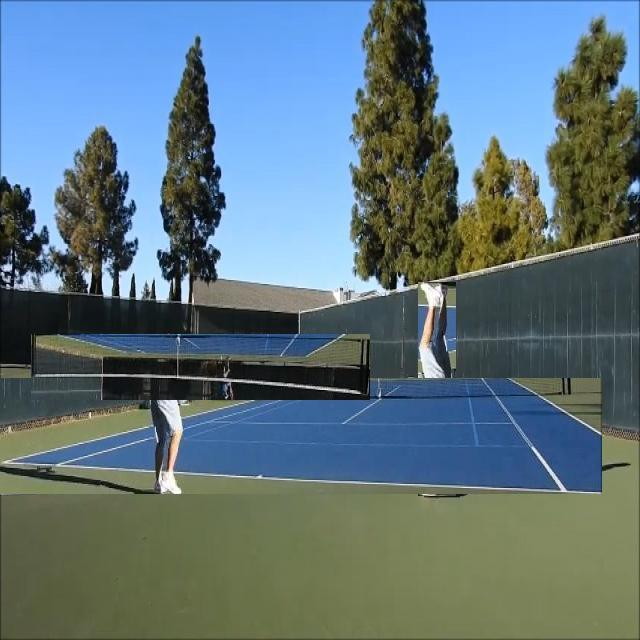court: (0, 378, 602, 494)
net: (31, 334, 370, 400)
player: (418, 283, 456, 497)
